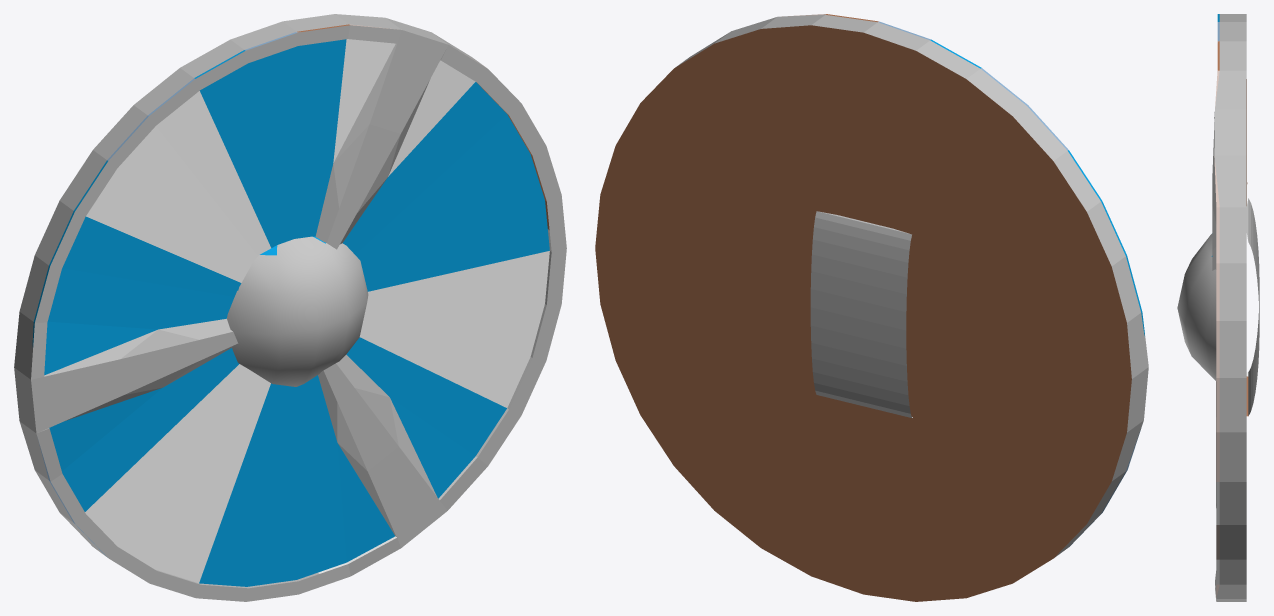
Rendered from SdoemntStrikesAgainWithShield.fbx.
3 views of the same model, side by side, from view 1: azimuth 30°, elevation 25°; view 2: azimuth 150°, elevation 25°; view 3: azimuth 270°, elevation 25° (orthographic). The views are drawn at different scales.
Parts seen in each view (by area): view 1: Cylinder; view 2: Cylinder; view 3: Cylinder.
Boxes of the visible parts, left/top/right/bottom form: Cylinder: left=14, top=14, right=566, bottom=601; Cylinder: left=595, top=14, right=1148, bottom=601; Cylinder: left=1177, top=14, right=1259, bottom=601.
Bounding box in the file's own units: 600 × 600 × 83.85.
